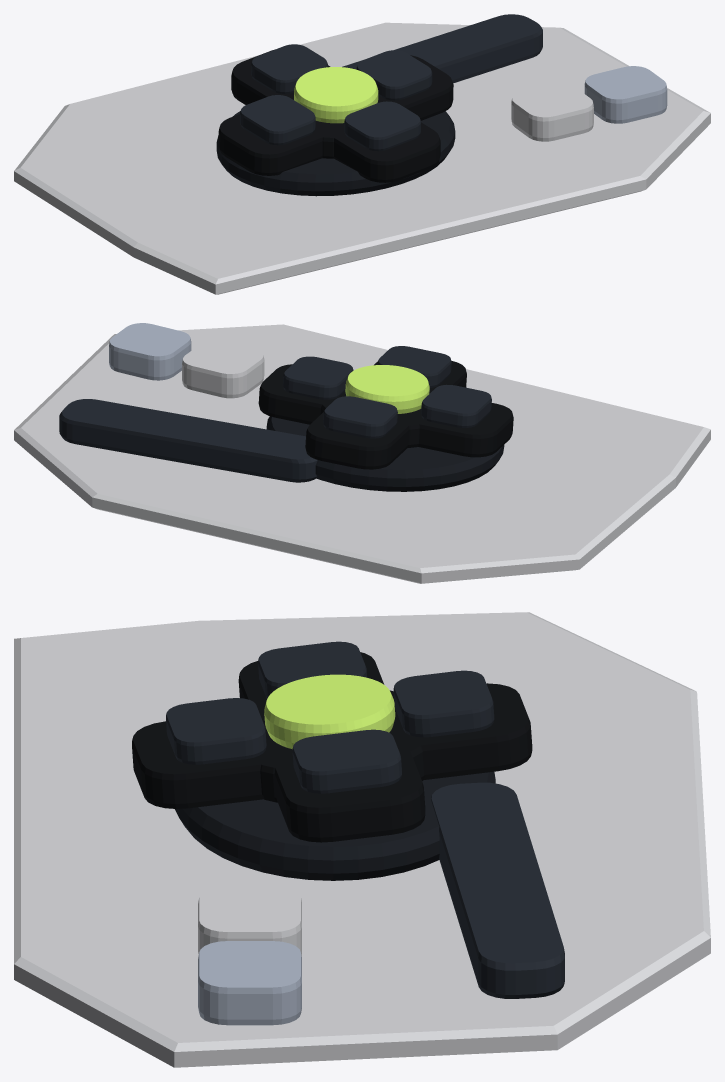
File: chapter-controls-v2.glb
3 views of the same model, one above another, from view 1: azimuth 30°, elevation 25°; view 2: azimuth 150°, elevation 25°; view 3: azimuth 270°, elevation 25° (orthographic). The views are drawn at different scales.
Parts seen in each view (by area): view 1: controls-porcelain-ground, controls-floating-rail, controls-key-step, controls-soft-key-a, controls-soft-key-b, focus-key-body-south, focus-key-body-west, focus-key-confirm-disc, focus-key-south, focus-key-west, focus-key-east, focus-key-north (+3 smaller); view 2: controls-porcelain-ground, controls-floating-rail, controls-key-step, controls-soft-key-a, controls-soft-key-b, focus-key-body-north, focus-key-body-west, focus-key-confirm-disc, focus-key-north, focus-key-west, focus-key-east, focus-key-body-east (+2 smaller); view 3: controls-porcelain-ground, controls-floating-rail, controls-key-step, controls-soft-key-b, focus-key-body-east, focus-key-confirm-disc, focus-key-body-south, focus-key-body-north, focus-key-east, controls-soft-key-a, focus-key-north, focus-key-south (+3 smaller).
Boxes of the visible parts, left/top/right/bottom form: controls-porcelain-ground: left=14, top=22, right=710, bottom=294; controls-floating-rail: left=342, top=14, right=542, bottom=83; controls-key-step: left=216, top=111, right=455, bottom=196; controls-soft-key-a: left=511, top=84, right=593, bottom=141; controls-soft-key-b: left=584, top=66, right=667, bottom=123; focus-key-body-south: left=326, top=122, right=440, bottom=182; focus-key-body-west: left=218, top=114, right=335, bottom=175; focus-key-confirm-disc: left=294, top=67, right=378, bottom=123; focus-key-south: left=344, top=101, right=420, bottom=151; focus-key-west: left=240, top=95, right=315, bottom=145; focus-key-east: left=356, top=50, right=432, bottom=100; focus-key-north: left=251, top=44, right=327, bottom=93; controls-porcelain-ground: left=14, top=324, right=710, bottom=583; controls-floating-rail: left=59, top=399, right=317, bottom=482; controls-key-step: left=266, top=416, right=504, bottom=491; controls-soft-key-a: left=182, top=341, right=264, bottom=398; controls-soft-key-b: left=109, top=323, right=191, bottom=380; focus-key-body-north: left=305, top=412, right=411, bottom=469; focus-key-body-west: left=402, top=403, right=513, bottom=457; focus-key-confirm-disc: left=345, top=365, right=429, bottom=413; focus-key-north: left=323, top=396, right=397, bottom=438; focus-key-west: left=421, top=384, right=491, bottom=427; focus-key-east: left=282, top=356, right=353, bottom=399; focus-key-body-east: left=258, top=364, right=346, bottom=424; controls-porcelain-ground: left=14, top=612, right=710, bottom=1067; controls-floating-rail: left=431, top=782, right=564, bottom=998; controls-key-step: left=175, top=771, right=495, bottom=880; controls-soft-key-b: left=198, top=941, right=301, bottom=1025; focus-key-body-east: left=274, top=740, right=425, bottom=842; focus-key-confirm-disc: left=264, top=674, right=395, bottom=749; focus-key-body-south: left=132, top=710, right=291, bottom=808; focus-key-body-north: left=391, top=683, right=532, bottom=779; focus-key-east: left=292, top=729, right=401, bottom=793; controls-soft-key-a: left=198, top=885, right=301, bottom=954; focus-key-north: left=393, top=670, right=494, bottom=737; focus-key-south: left=166, top=698, right=266, bottom=764.
Size of the model in its own units: 5 by 0.6966 by 3.35.
